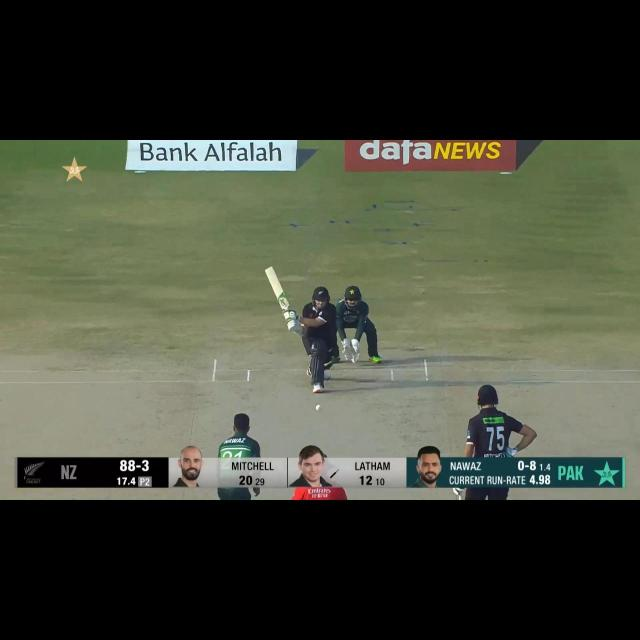bat: (255, 263, 292, 311)
toe: (261, 264, 278, 280)
